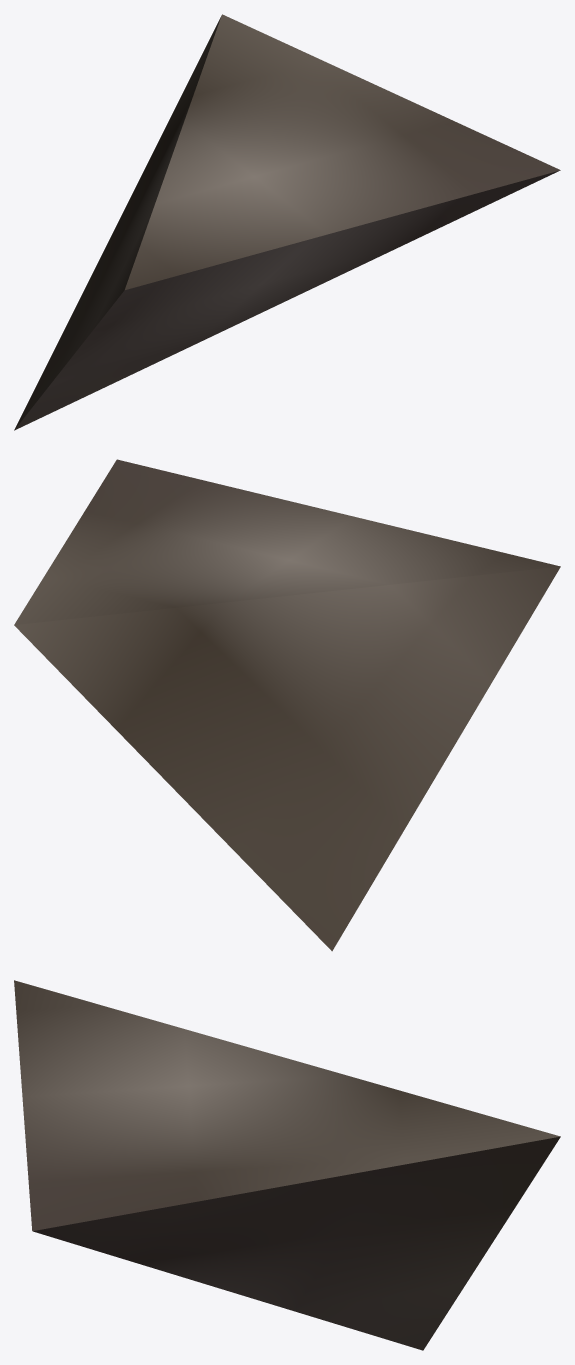
3 views of the same model, one above another, from view 1: azimuth 30°, elevation 25°; view 2: azimuth 150°, elevation 25°; view 3: azimuth 270°, elevation 25° (orthographic). The views are drawn at different scales.
Size of the model in its own units: 0.00935 by 0.00622 by 0.00836.
1 material, 1 textured.
